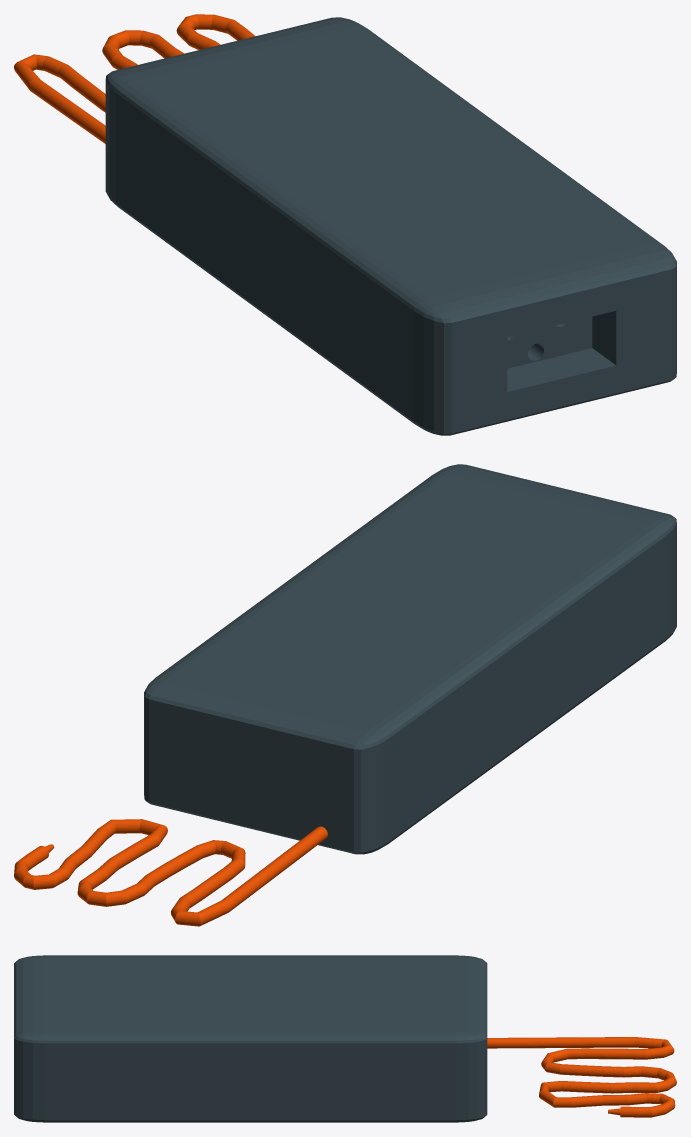
File: charger.fbx
3 views of the same model, one above another, from view 1: azimuth 30°, elevation 25°; view 2: azimuth 150°, elevation 25°; view 3: azimuth 270°, elevation 25° (orthographic). The views are drawn at different scales.
Visible parts, largest first — view 1: Cube.002, Cylinder.001; view 2: Cube.002, Cylinder.001; view 3: Cube.002, Cylinder.001.
Boxes of the visible parts, left/top/right/bottom form: Cube.002: left=105, top=17, right=676, bottom=435; Cylinder.001: left=14, top=14, right=255, bottom=143; Cube.002: left=144, top=464, right=676, bottom=854; Cylinder.001: left=14, top=819, right=327, bottom=926; Cube.002: left=14, top=955, right=487, bottom=1122; Cylinder.001: left=487, top=1037, right=676, bottom=1117.
Bounding box in the file's own units: 7.65 × 3.56 × 24.22.
